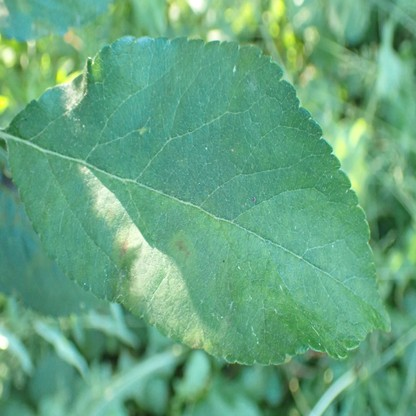scab: (111, 232, 129, 264), (171, 233, 193, 259), (33, 19, 49, 38)
